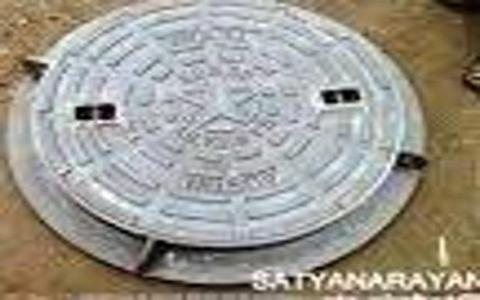proper manhole: (29, 1, 406, 254)
